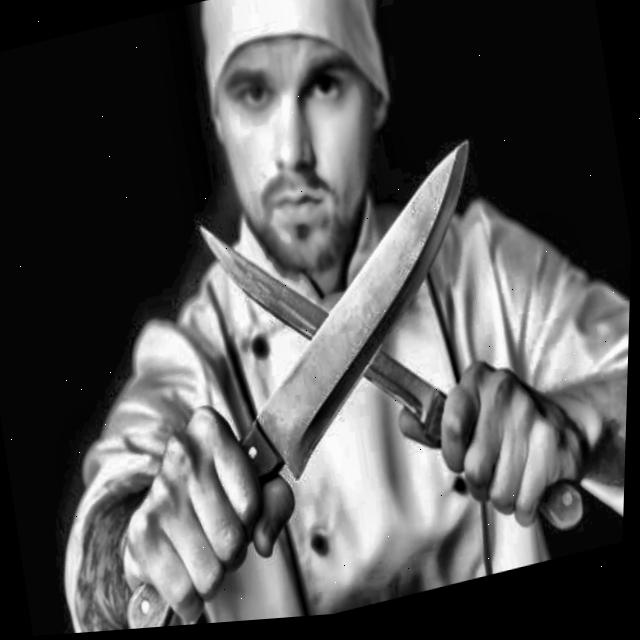pisau: (98, 133, 477, 631)
